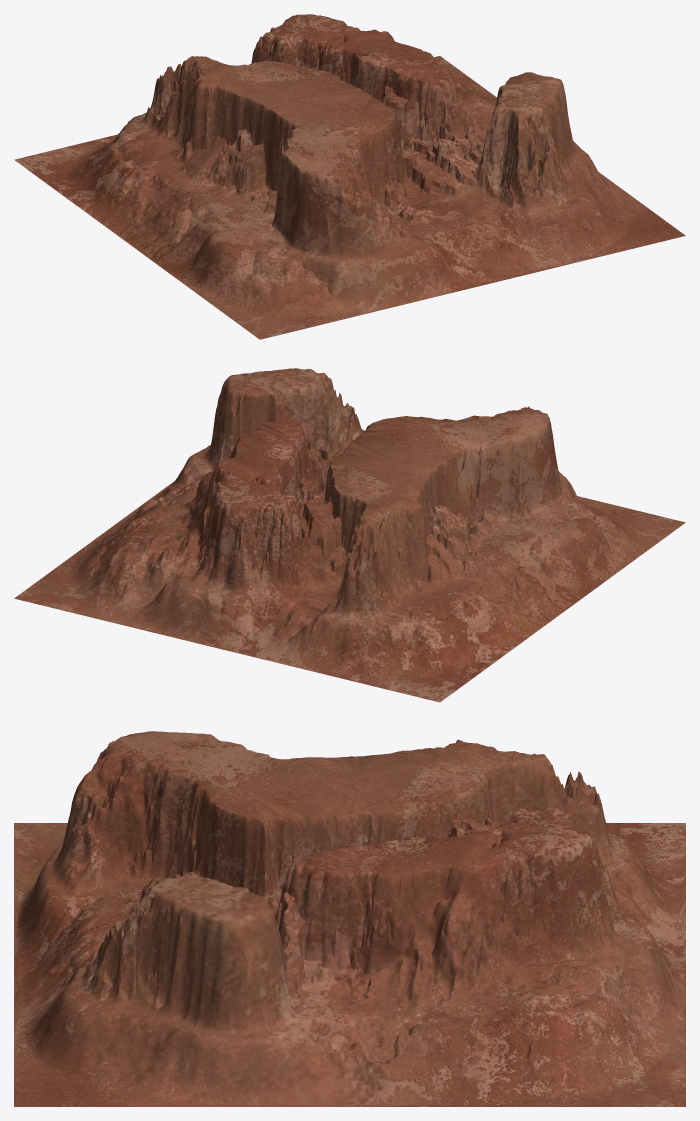
Rendered from ap_modular_wadi_desert_rock4.gltf.
3 renders of one model, top to bottom at view 1: azimuth 30°, elevation 25°; view 2: azimuth 150°, elevation 25°; view 3: azimuth 270°, elevation 25°, orthographic. The views are drawn at different scales.
Parts seen in each view (by area): view 1: ap_modular_wadi_desert_rock4; view 2: ap_modular_wadi_desert_rock4; view 3: ap_modular_wadi_desert_rock4.
Part boxes in pixels (<box>): ap_modular_wadi_desert_rock4: <box>14,14,685,339</box>; ap_modular_wadi_desert_rock4: <box>14,368,685,702</box>; ap_modular_wadi_desert_rock4: <box>14,731,685,1106</box>.
Size of the model in its own units: 23.88 by 5.98 by 23.88.
1 material, 1 textured.
